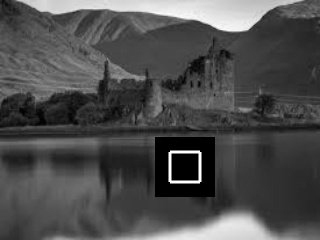square: (155, 137, 215, 197)
